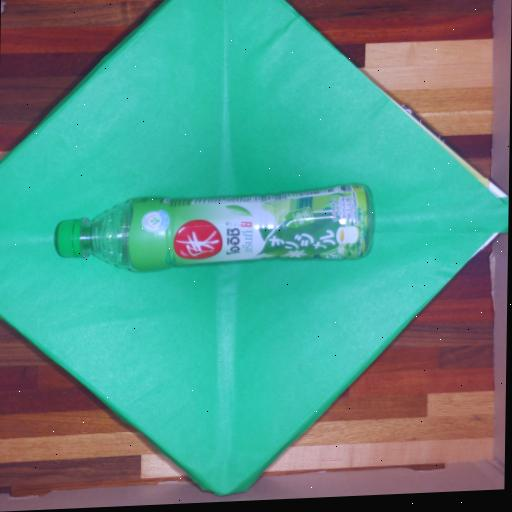bottle: (50, 185, 374, 281)
